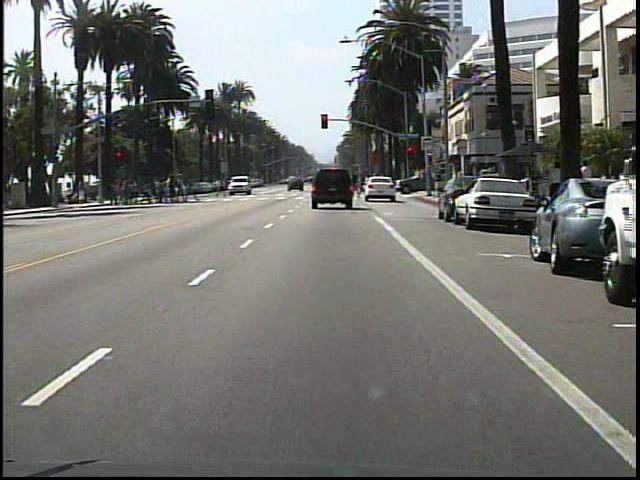person: (546, 156, 569, 216), (574, 155, 594, 212), (212, 172, 231, 201)
